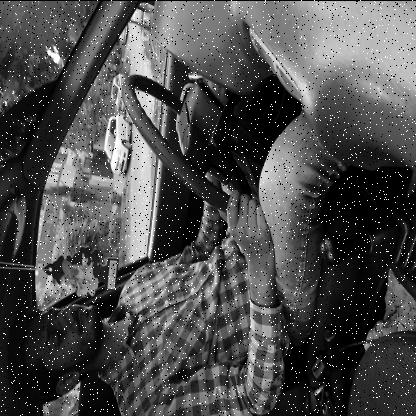no_seatbelt: (19, 254, 242, 388)
